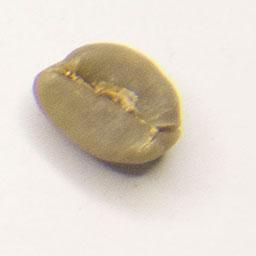premium: (28, 38, 187, 174)
